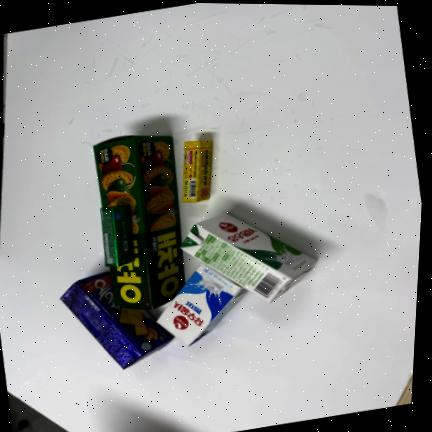cracker_ace: (61, 272, 172, 369)
cracker_vege: (92, 136, 185, 310)
gum_green: (101, 205, 134, 267)
gum_yellow: (182, 141, 212, 202)
milk_blue: (158, 264, 245, 345)
milk_green: (181, 214, 316, 303)
